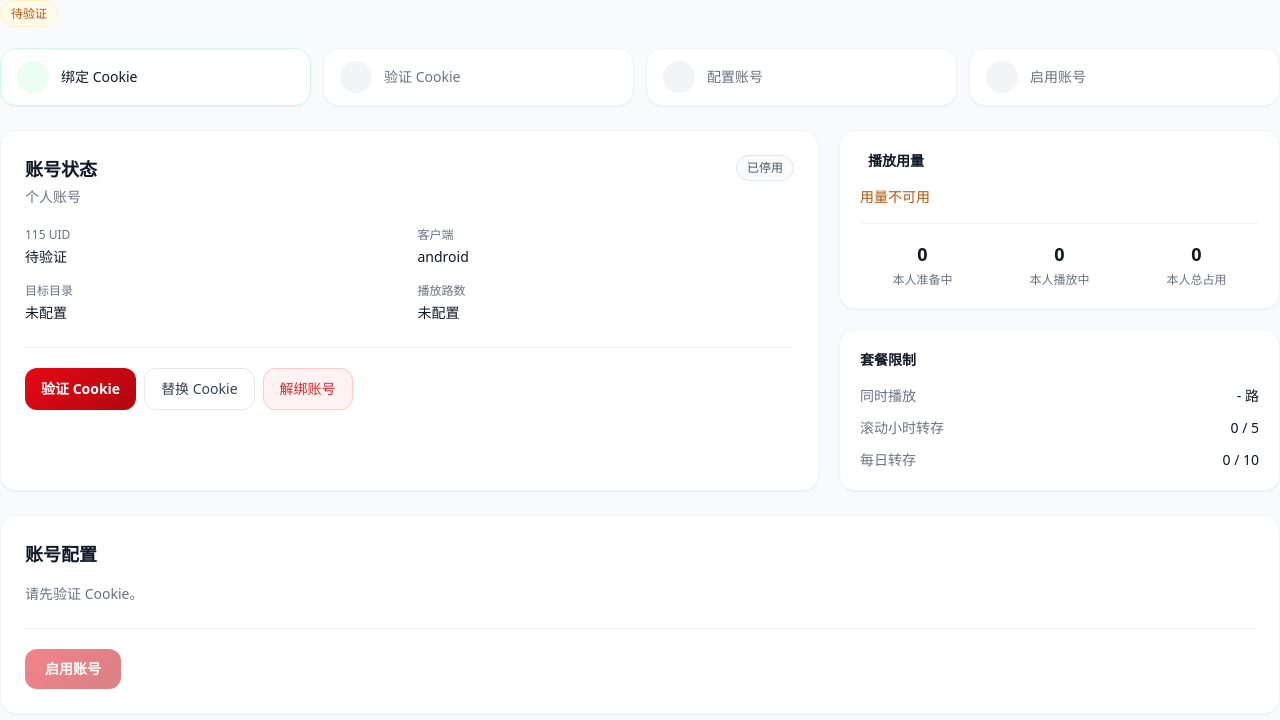
P115AccountView › 验证请求失败后仍重读后端已经持久化的错误状态
Step 1. Click the button "验证 Cookie" → x=81, y=389, box [25, 368, 136, 410]
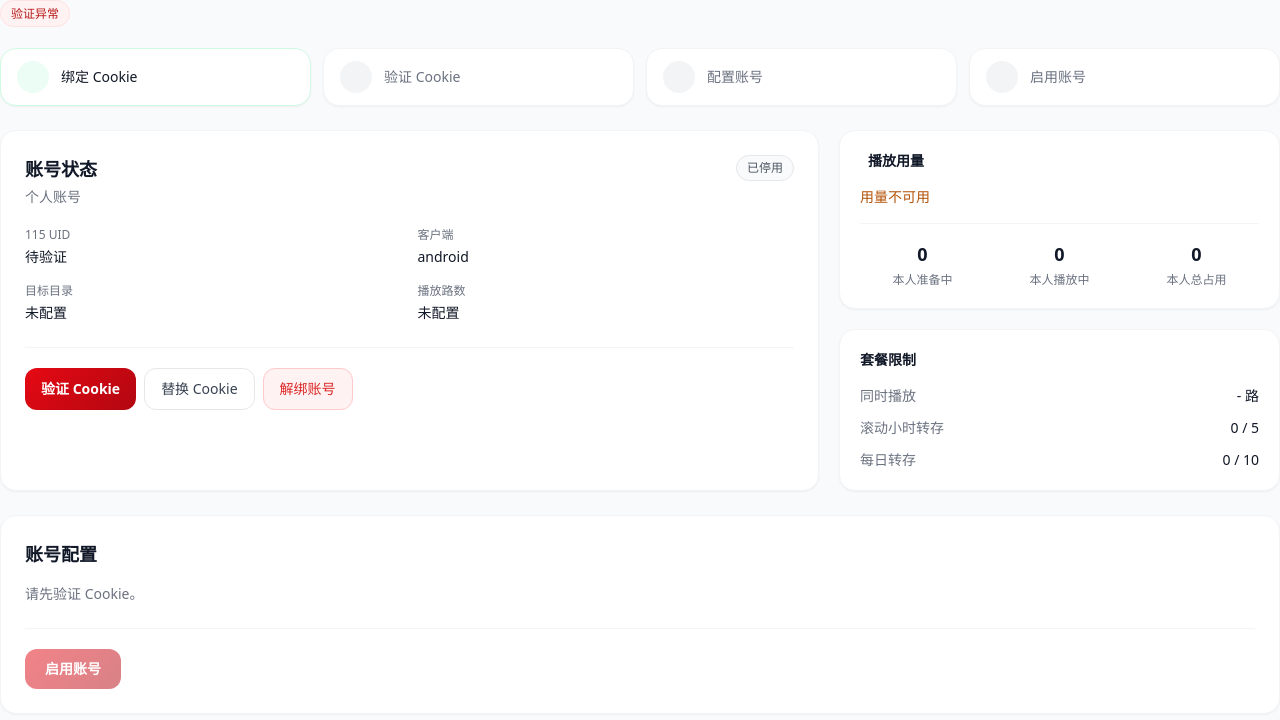
Expected: the text "验证异常" is shown, [0, 0, 70, 27]
